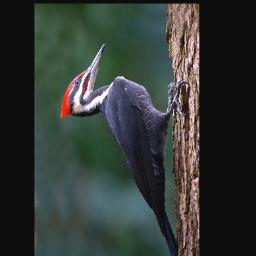Woodpecker: (61, 44, 190, 256)
